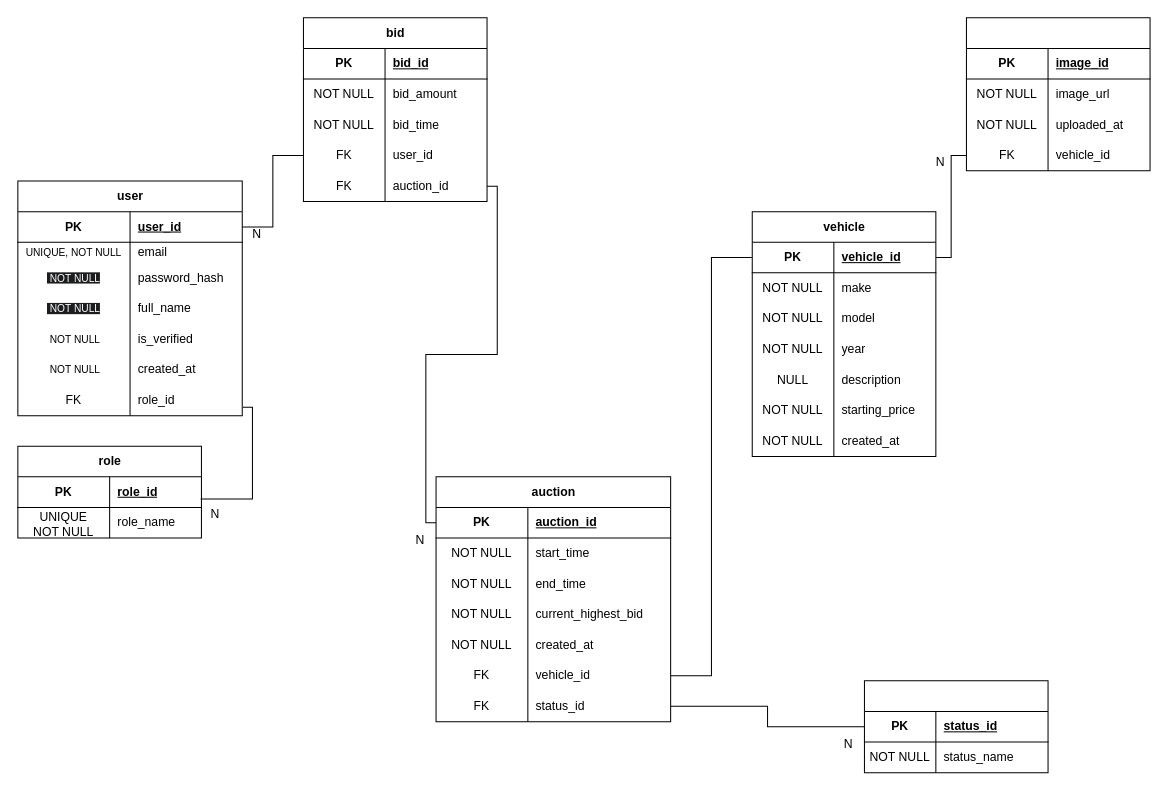
Some shapes in this 1168 by 791 pixel diagram are drawn without their labels. Each missing label, with the box of its shape:
auction_status: (863, 680, 1048, 773)
vehicle_image: (965, 17, 1150, 171)
